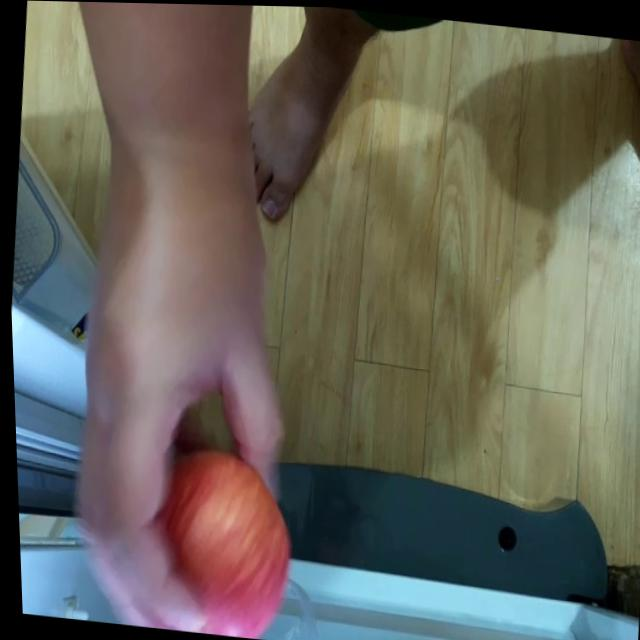apple: (150, 435, 298, 638)
